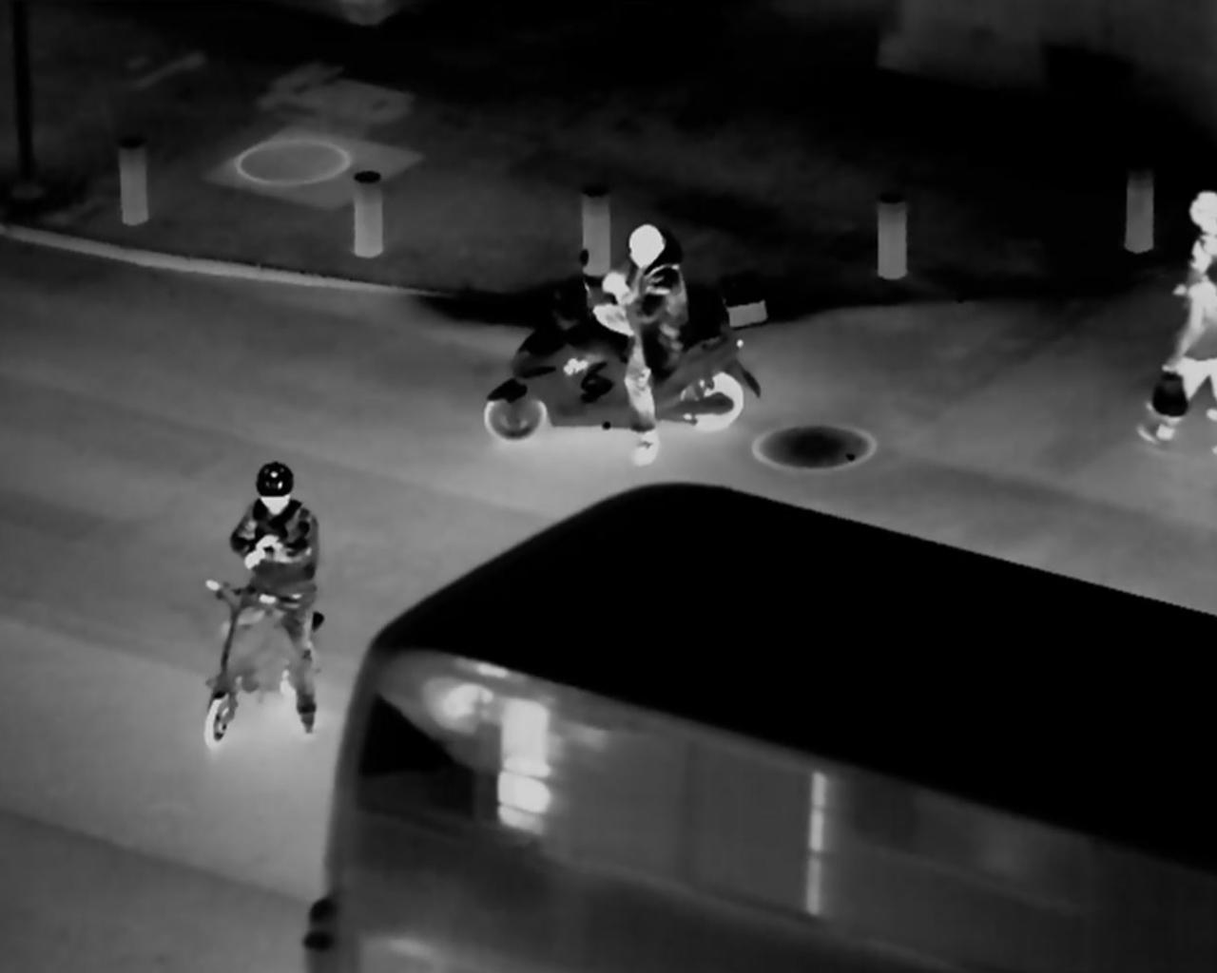person: (223, 449, 325, 736), (589, 224, 706, 446), (1142, 191, 1217, 450)
